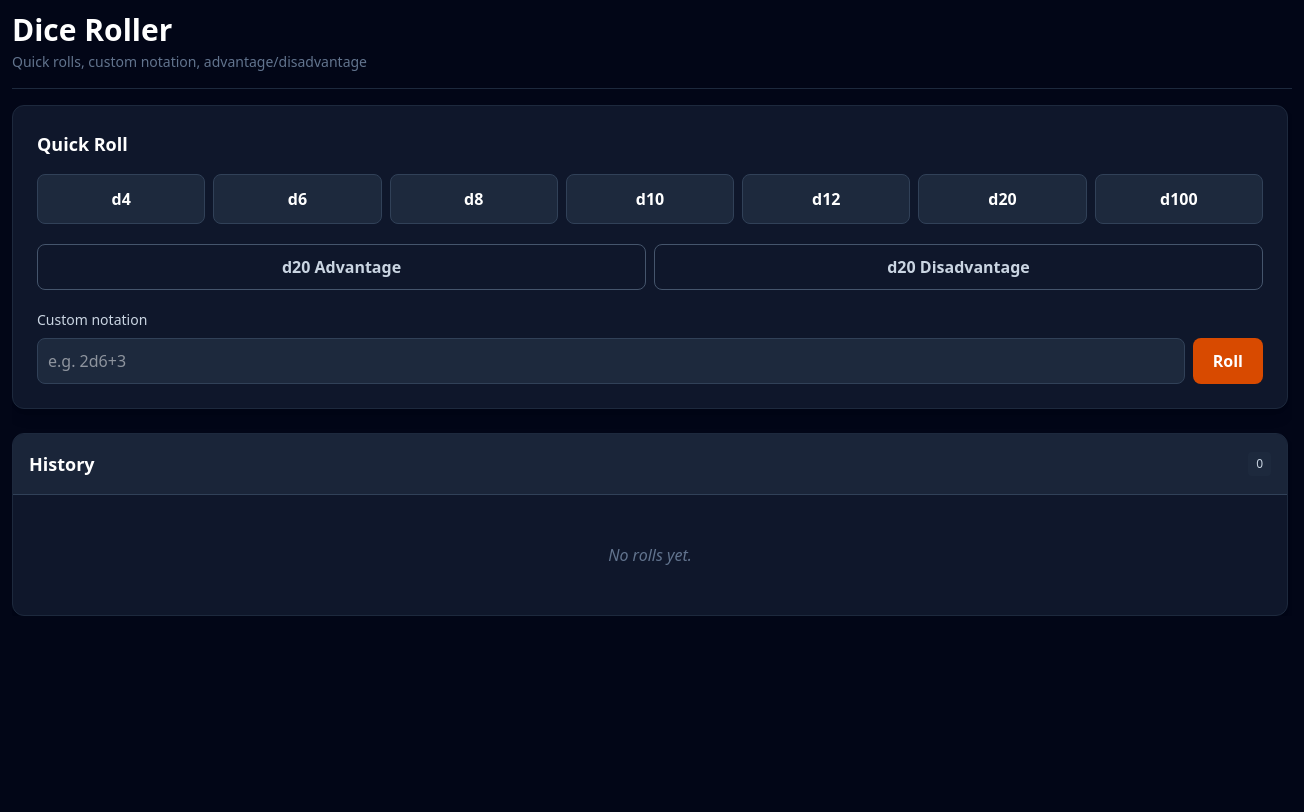
Test: DiceRollerView › rolling custom notation parses and displays the result
Type "2d6+3" into the field labelled "Custom notation" at x=611, y=361, box [37,338,1185,384]
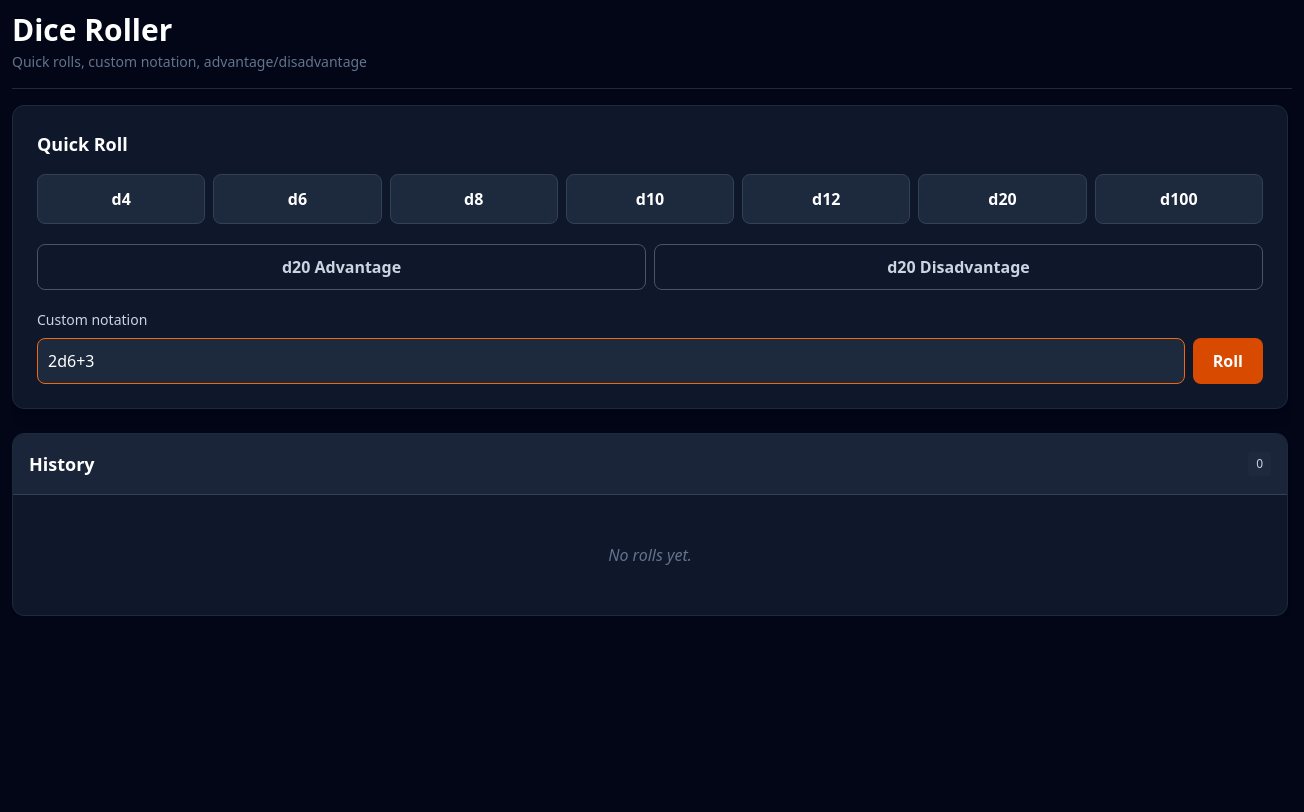
Click the button "Roll" at x=1228, y=361, box [1193,338,1263,384]
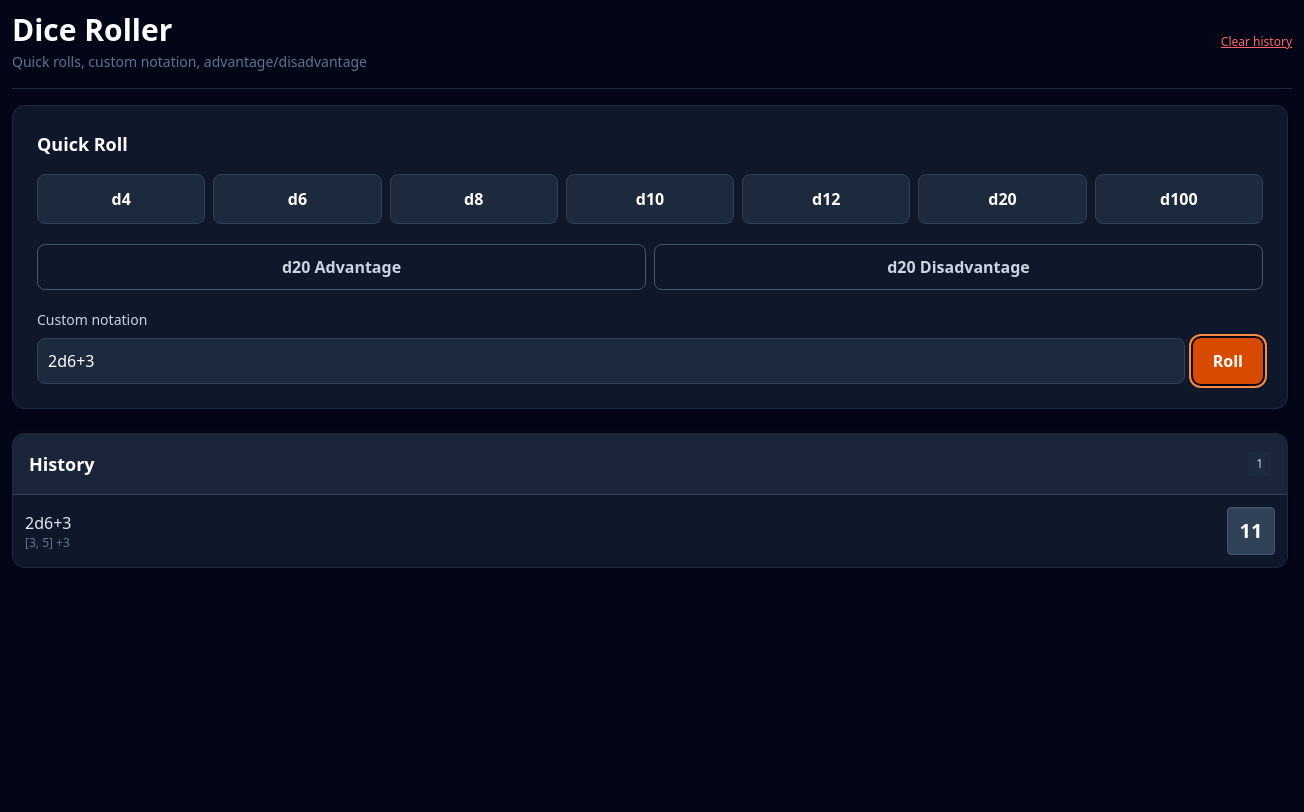
Check: the text "2d6+3" is shown, box [25,511,72,535]
Check: the text "11" is shown, box [1227,507,1275,555]
Check: the text "[3, 5] +3" is shown, box [25,535,72,551]
